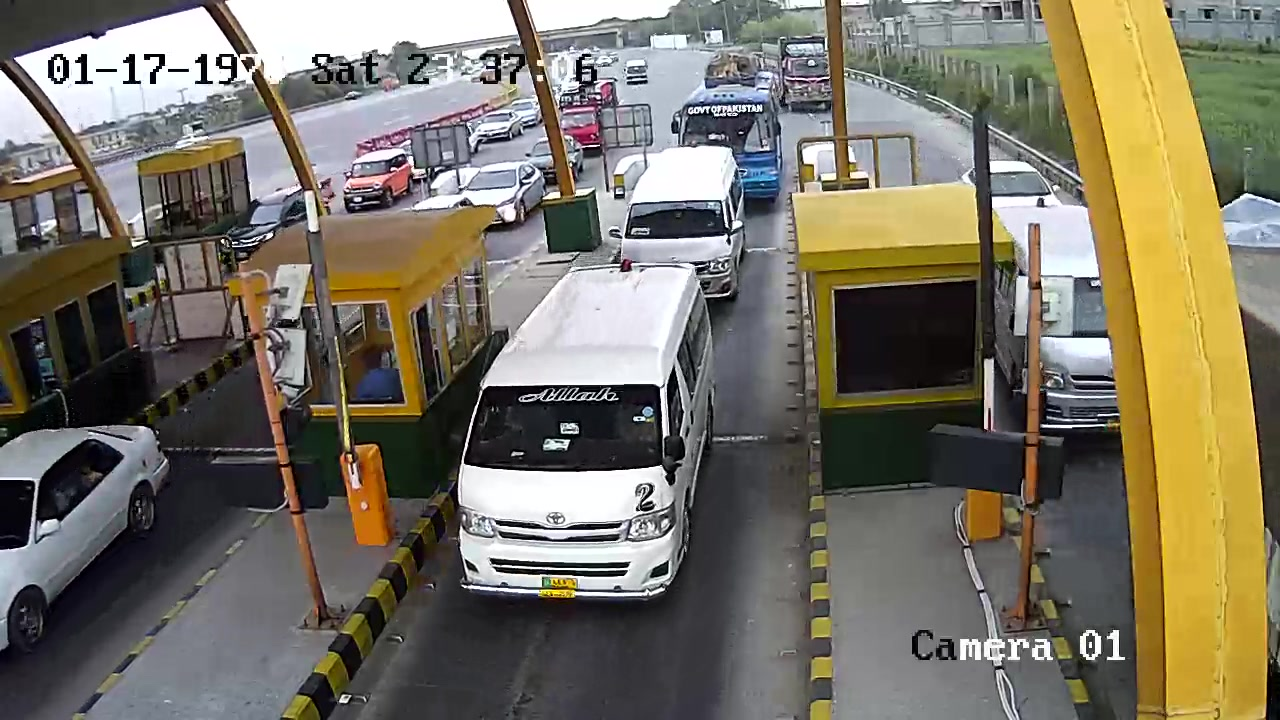F2: (445, 252, 728, 618)
